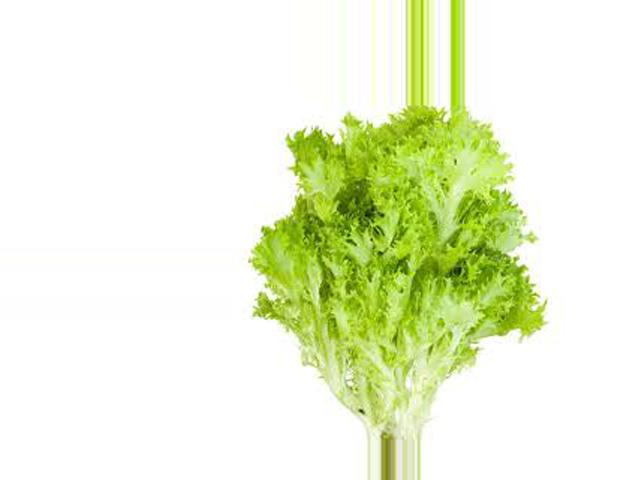lettuce: (235, 107, 547, 441)
